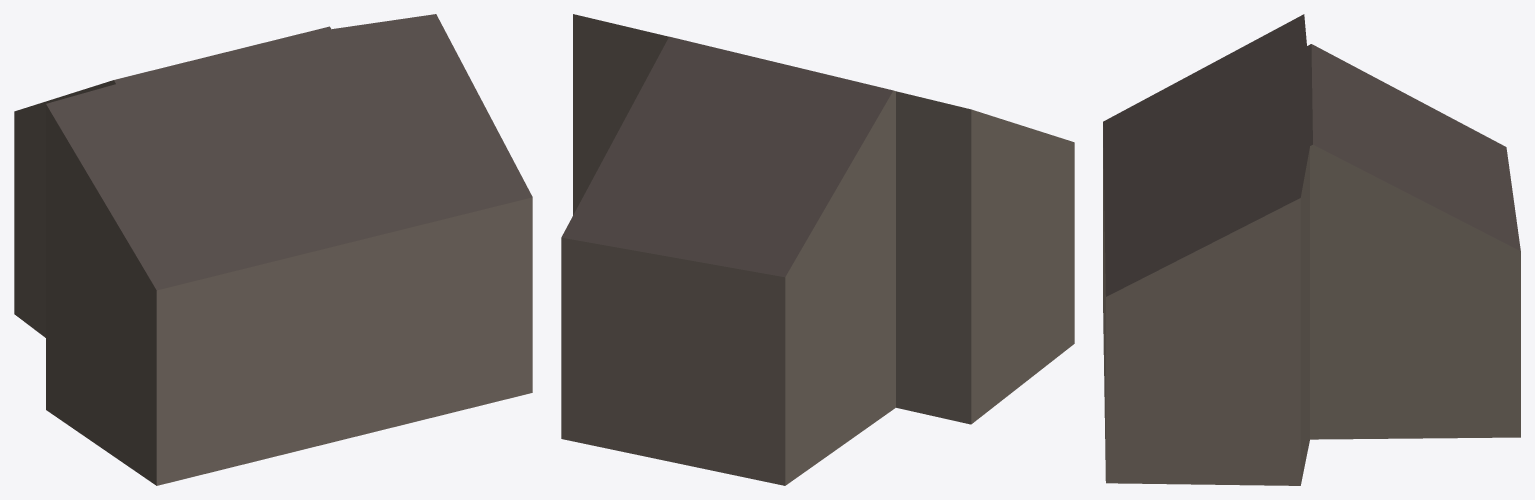
The picture shows the model from 3 angles, left to right: view 1: azimuth 30°, elevation 25°; view 2: azimuth 150°, elevation 25°; view 3: azimuth 270°, elevation 25°; orthographic projection. The views are drawn at different scales.
Parts seen in each view (by area): view 1: HP-w1512965876; view 2: HP-w1512965876; view 3: HP-w1512965876.
Part boxes in pixels (left/top/right/bottom): HP-w1512965876: left=14, top=14, right=532, bottom=485; HP-w1512965876: left=561, top=14, right=1074, bottom=485; HP-w1512965876: left=1103, top=14, right=1520, bottom=485.
Size of the model in its own units: 18.71 by 14.26 by 18.31.
